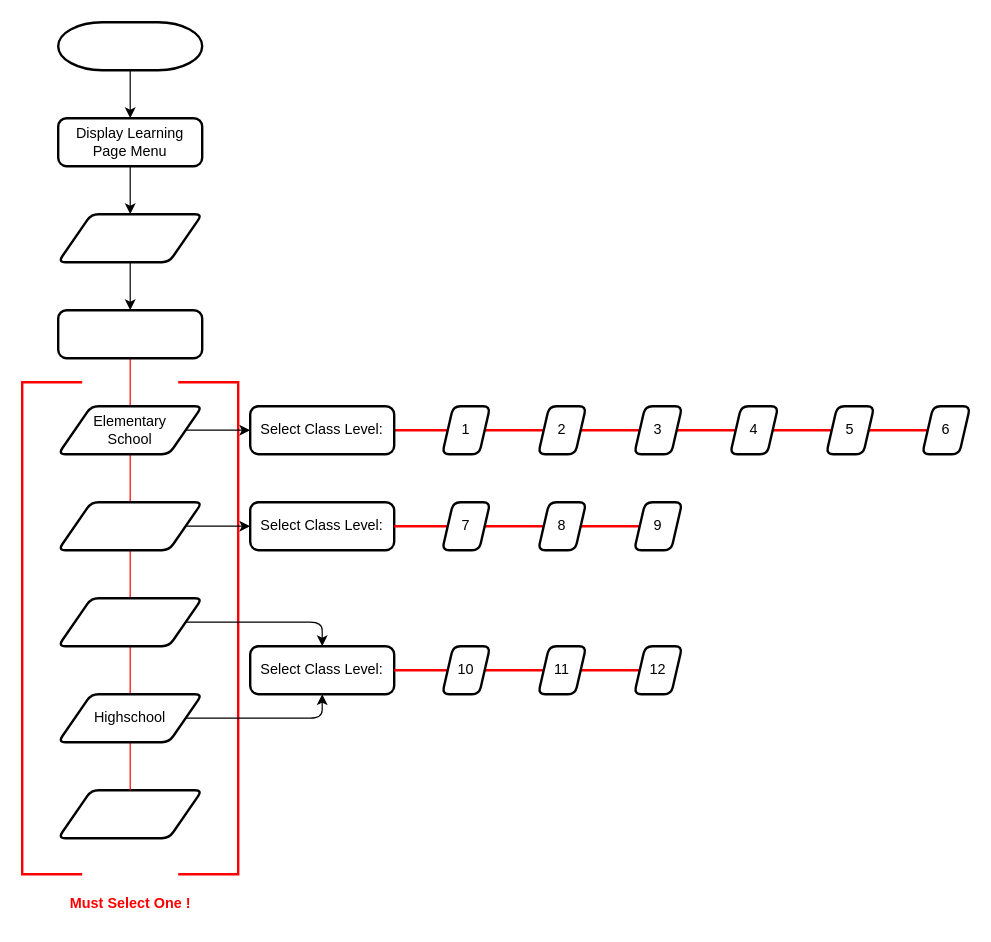
This 991x942 diagram has some shape labels left out. The centre of each missing label's shape, as x and y in pixels:
"College" belongs at (x=129, y=813).
"Junior Highschool" belongs at (x=129, y=525).
"Select option:" belongs at (x=129, y=333).
"Start" belongs at (x=129, y=45).
"Vocational Highschool" belongs at (x=129, y=621).
"When a material is Clicked" belongs at (x=129, y=237).
